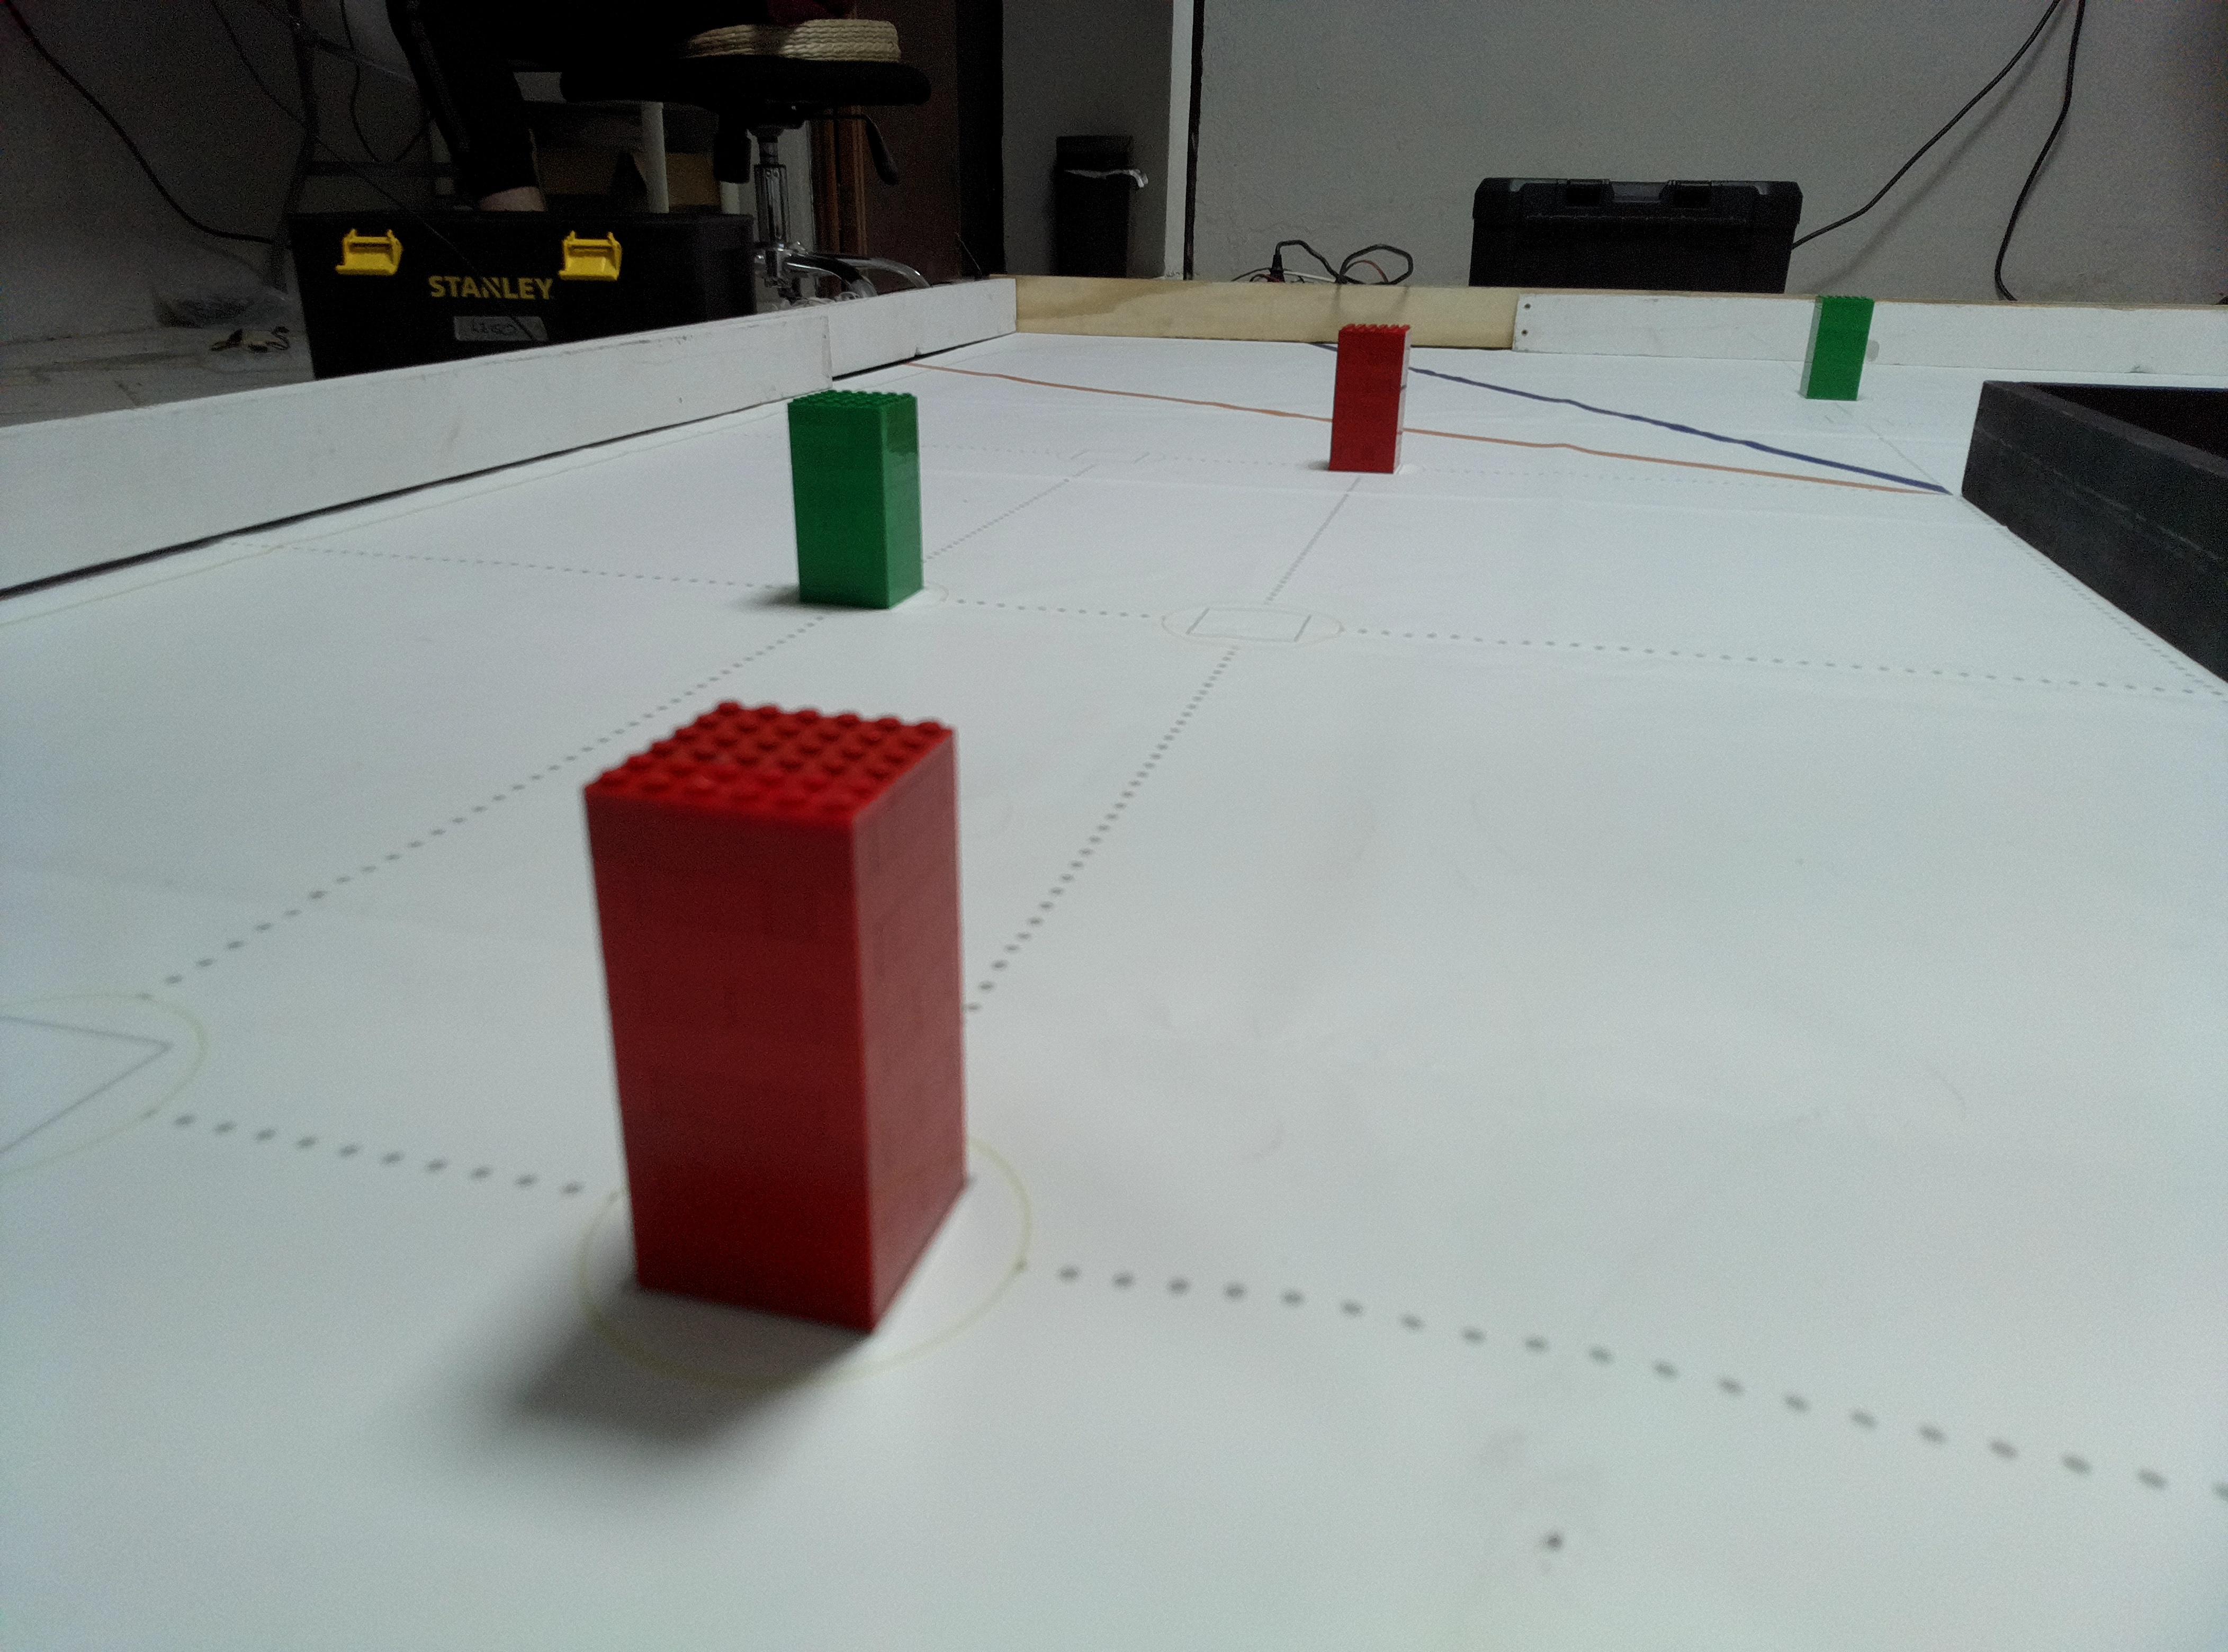greenbox: (785, 387, 929, 611), (1795, 294, 1877, 402)
redbox: (577, 690, 973, 1343), (1326, 321, 1414, 475)
